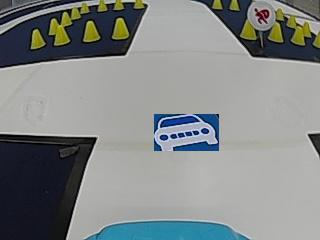thief: (247, 0, 276, 30)
